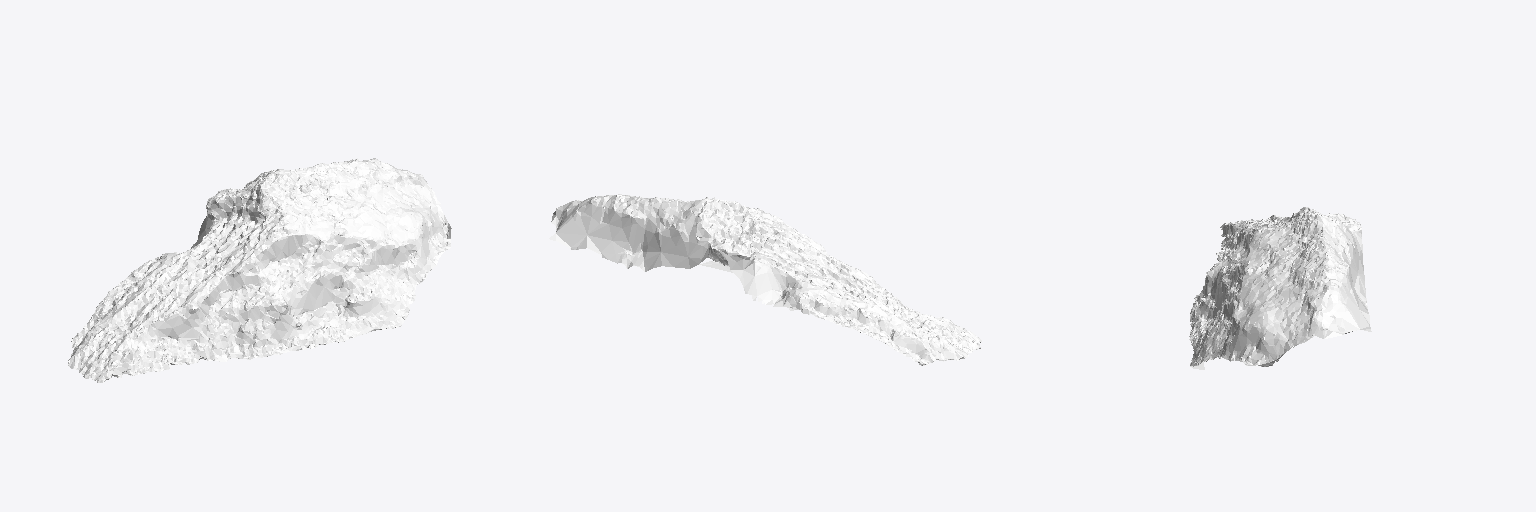
The model's file is CleanedLimestone2Reduced.obj.
3 renders of one model, left to right at view 1: azimuth 30°, elevation 25°; view 2: azimuth 150°, elevation 25°; view 3: azimuth 270°, elevation 25°, orthographic.
Size of the model in its own units: 49.17 by 15.29 by 20.24.